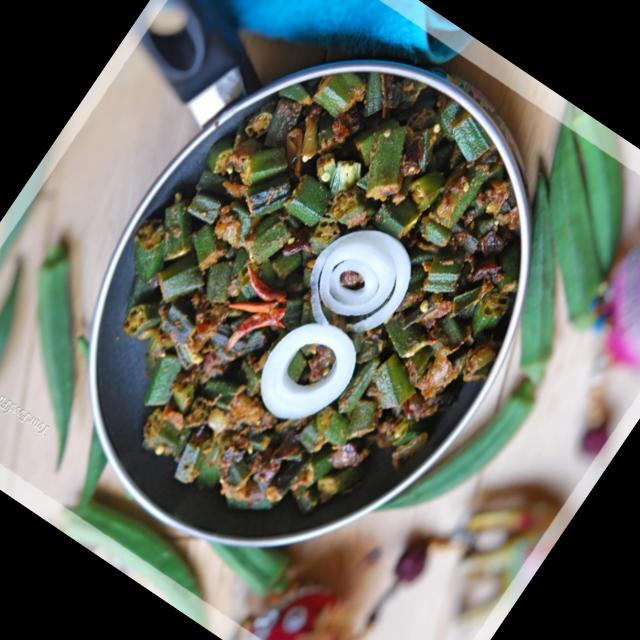BhindiMasala: (36, 0, 609, 590)
